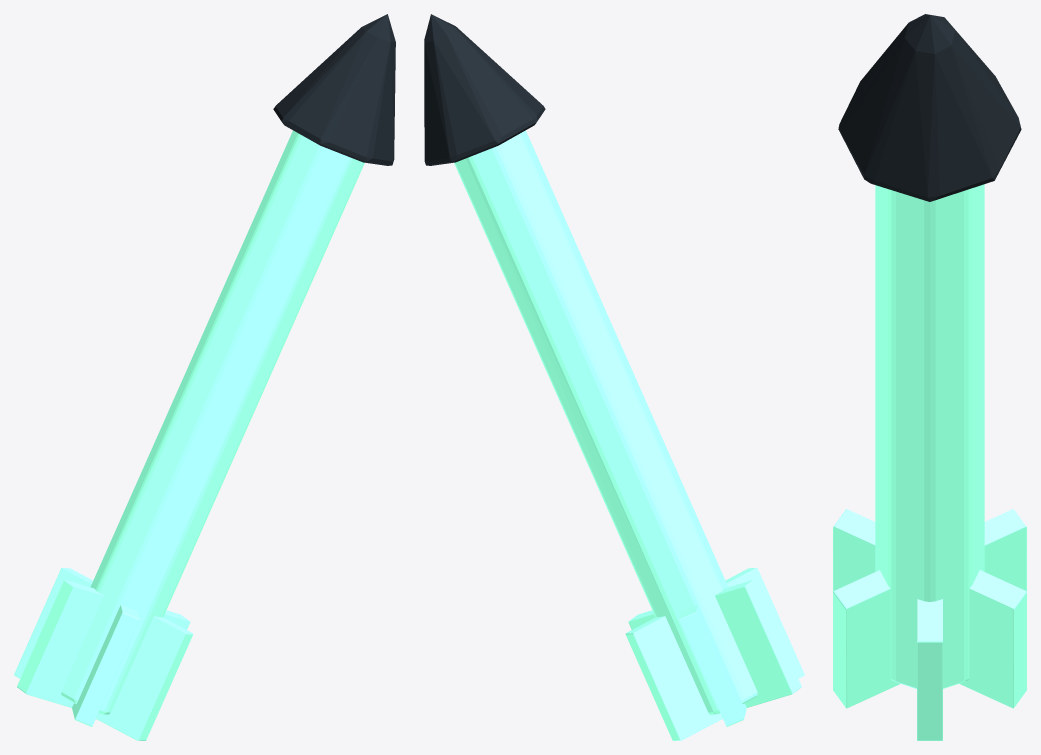
Rendered from item_slowDarts.glb.
3 renders of one model, left to right at view 1: azimuth 30°, elevation 25°; view 2: azimuth 150°, elevation 25°; view 3: azimuth 270°, elevation 25°, orthographic. The views are drawn at different scales.
Parts seen in each view (by area): view 1: item_slowDarts_part_0, item_slowDarts_part_1, item_slowDarts_part_4, item_slowDarts_part_2, item_slowDarts_part_3; view 2: item_slowDarts_part_0, item_slowDarts_part_1, item_slowDarts_part_3, item_slowDarts_part_2, item_slowDarts_part_4; view 3: item_slowDarts_part_0, item_slowDarts_part_1, item_slowDarts_part_3, item_slowDarts_part_4, item_slowDarts_part_2.
Boxes of the visible parts, box(x1,y1,x2,y2) form: item_slowDarts_part_0: box(61, 130, 364, 714); item_slowDarts_part_1: box(273, 14, 395, 165); item_slowDarts_part_4: box(14, 568, 193, 740); item_slowDarts_part_2: box(17, 580, 190, 707); item_slowDarts_part_3: box(72, 605, 139, 726); item_slowDarts_part_0: box(454, 130, 757, 714); item_slowDarts_part_1: box(424, 14, 545, 165); item_slowDarts_part_3: box(625, 568, 804, 740); item_slowDarts_part_2: box(628, 579, 801, 707); item_slowDarts_part_4: box(679, 605, 746, 726); item_slowDarts_part_0: box(875, 184, 984, 688); item_slowDarts_part_1: box(838, 14, 1021, 201); item_slowDarts_part_3: box(833, 509, 1026, 708); item_slowDarts_part_4: box(833, 509, 1026, 708); item_slowDarts_part_2: box(917, 599, 942, 740).
Bounding box in the file's own units: 0.7881 × 1.32 × 0.2596.
